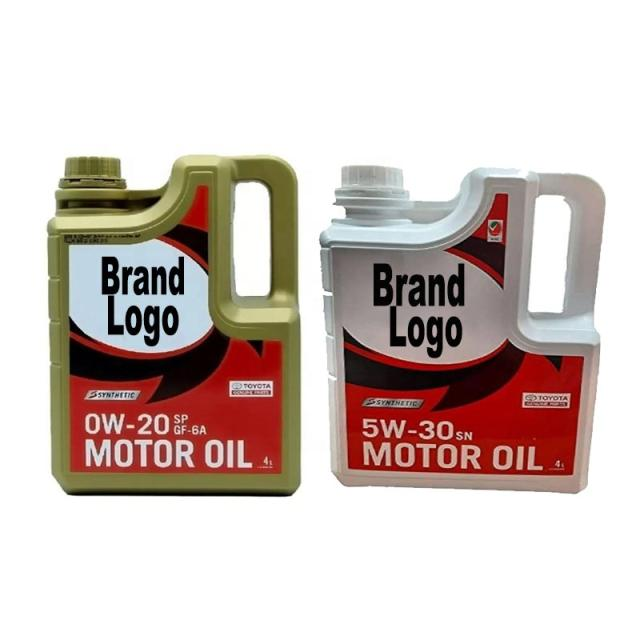motor_oil: (40, 141, 306, 513), (322, 154, 604, 498)
